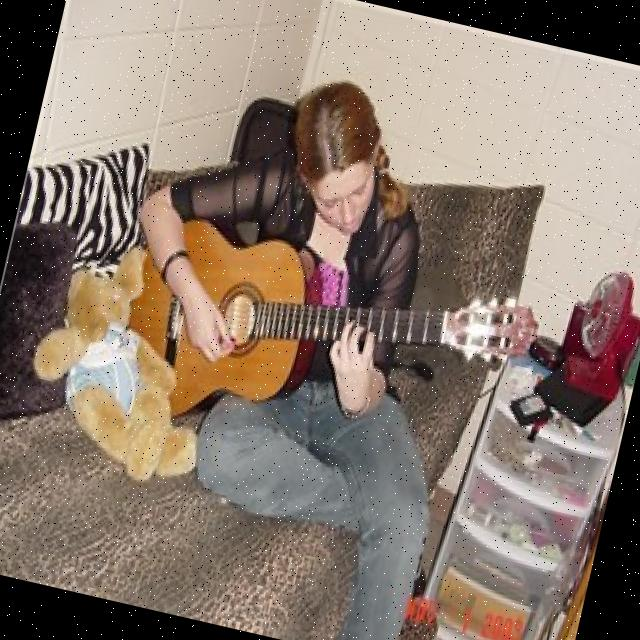guitar: (105, 207, 546, 494)
